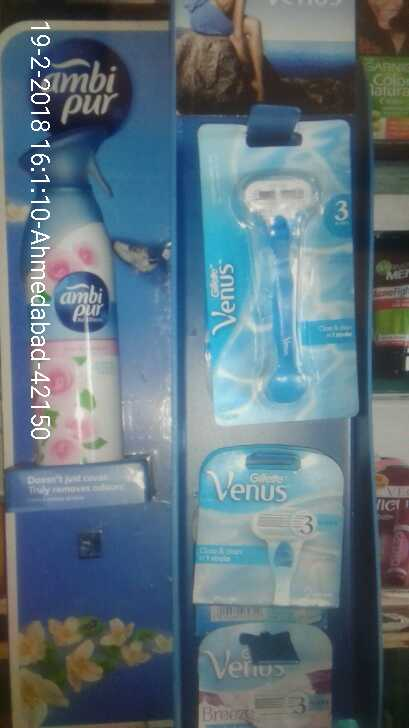beauty: (194, 109, 363, 423), (197, 441, 348, 614)
home: (28, 129, 128, 469)
